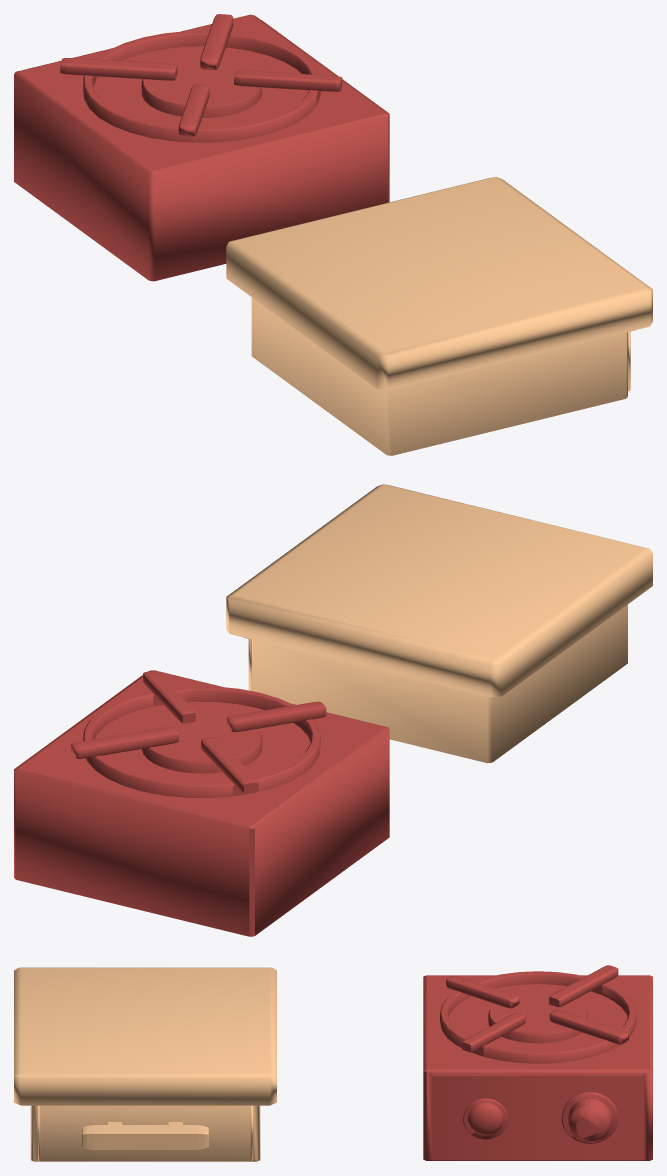
File: M6BO_Model_Keuken.fbx
3 renders of one model, top to bottom at view 1: azimuth 30°, elevation 25°; view 2: azimuth 150°, elevation 25°; view 3: azimuth 270°, elevation 25°, orthographic. The views are drawn at different scales.
Parts seen in each view (by area): view 1: Counter, Stove; view 2: Counter, Stove; view 3: Counter, Stove.
Part boxes in pixels (x1=…): Counter: x1=226, y1=177, x2=652, y2=455; Stove: x1=14, y1=14, x2=389, y2=281; Counter: x1=226, y1=484, x2=652, y2=763; Stove: x1=14, y1=670, x2=389, y2=936; Counter: x1=14, y1=967, x2=276, y2=1161; Stove: x1=423, y1=965, x2=652, y2=1160.
Bounding box in the file's own units: 291 × 124 × 651.
